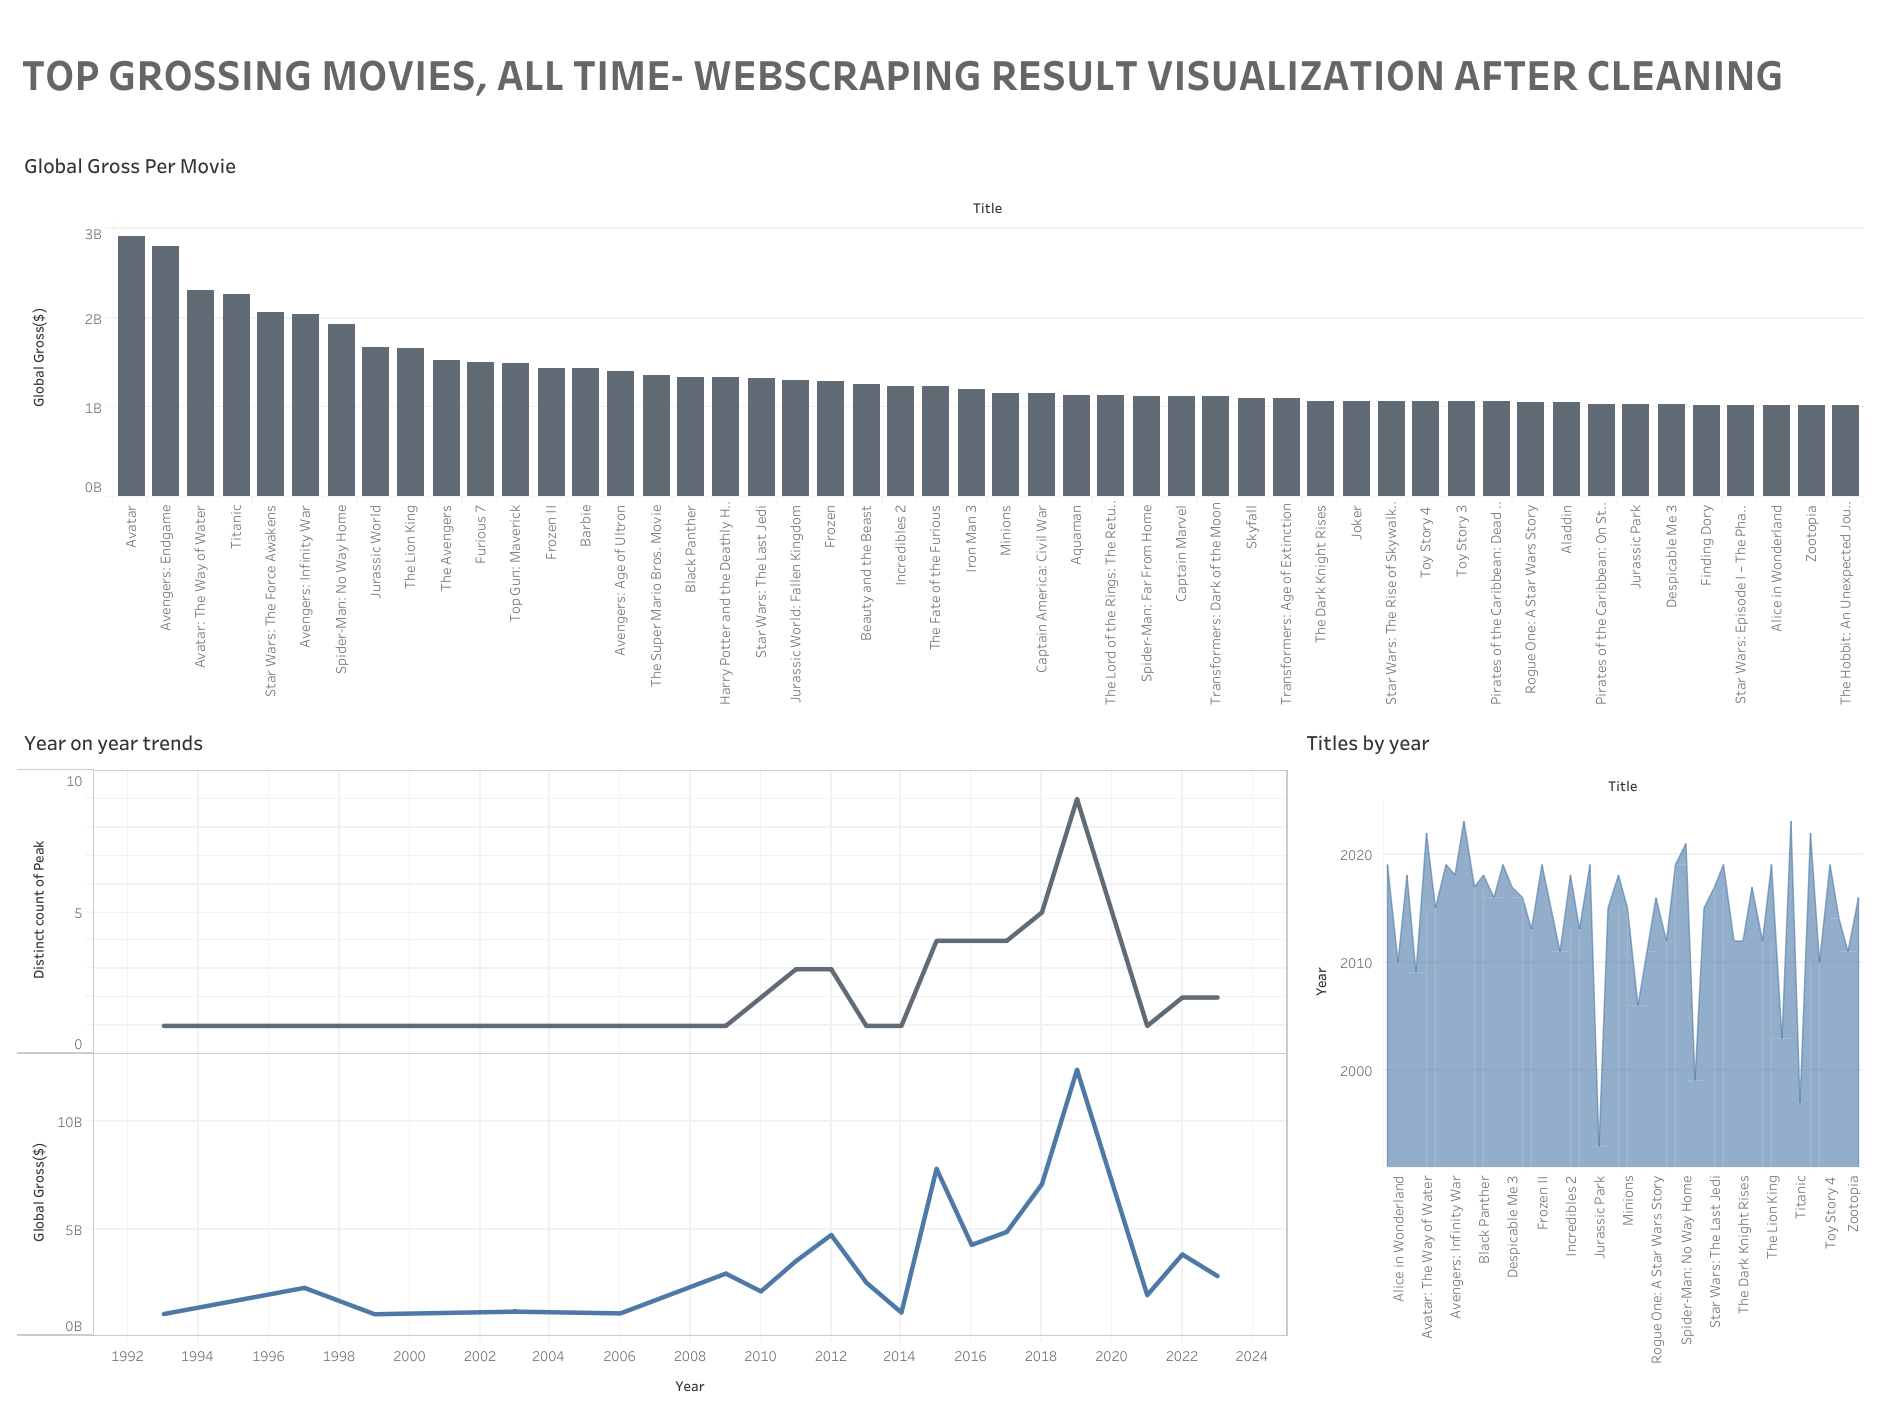

The dashboard page shown, as its layout file describes it:
{"tool":"tableau","page":{"name":"Dashboard 1","canvas":[1000,1000],"units":"permille","ordinal":0},"visuals":[{"type":"text","box":[5.2,9.9,989.6,85.6]},{"type":"worksheet","title":"Sheet 1","mark":"Automatic","rows":["Global Gross($)"],"cols":["Title"],"box":[5.2,95.5,989.6,404.5]},{"type":"worksheet","title":"Sheet 2","mark":"Automatic","rows":["Peak","Global Gross($)"],"cols":["Year"],"box":[5.2,500,556.3,490.1]},{"type":"worksheet","title":"Sheet 3","mark":"Area","rows":["Year"],"cols":["Title"],"box":[561.5,500,433.2,490.1]}]}

Visuals, with their boxes on the dashboard's canvas, which has no fixed pixel size, in thousandths of its width and height (x1, y1, x2, y2). These are canvas units, not pixel positions in the 1880x1424 screenshot, which may show the page scaled, cropped or inside an application window:
text: locate(5, 10, 995, 96)
"Sheet 1" worksheet: locate(5, 96, 995, 500)
"Sheet 2" worksheet: locate(5, 500, 562, 990)
"Sheet 3" worksheet (Area marks): locate(562, 500, 995, 990)
